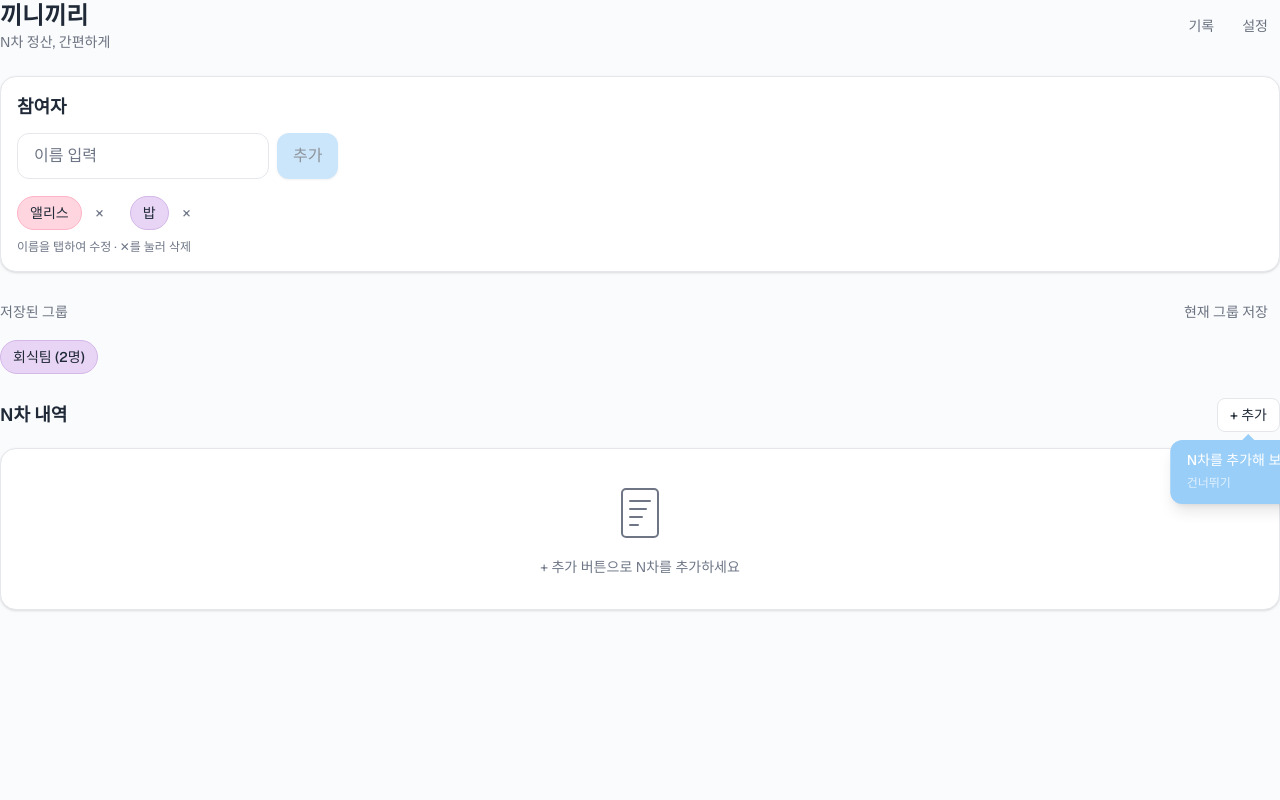
MainPage - 프리셋 관리 › 프리셋 칩 클릭 시 액션 모달 표시
The image size is (1280, 800).
Click the switch named "회식팀 선택" at (49, 357), box [0,340,98,374]
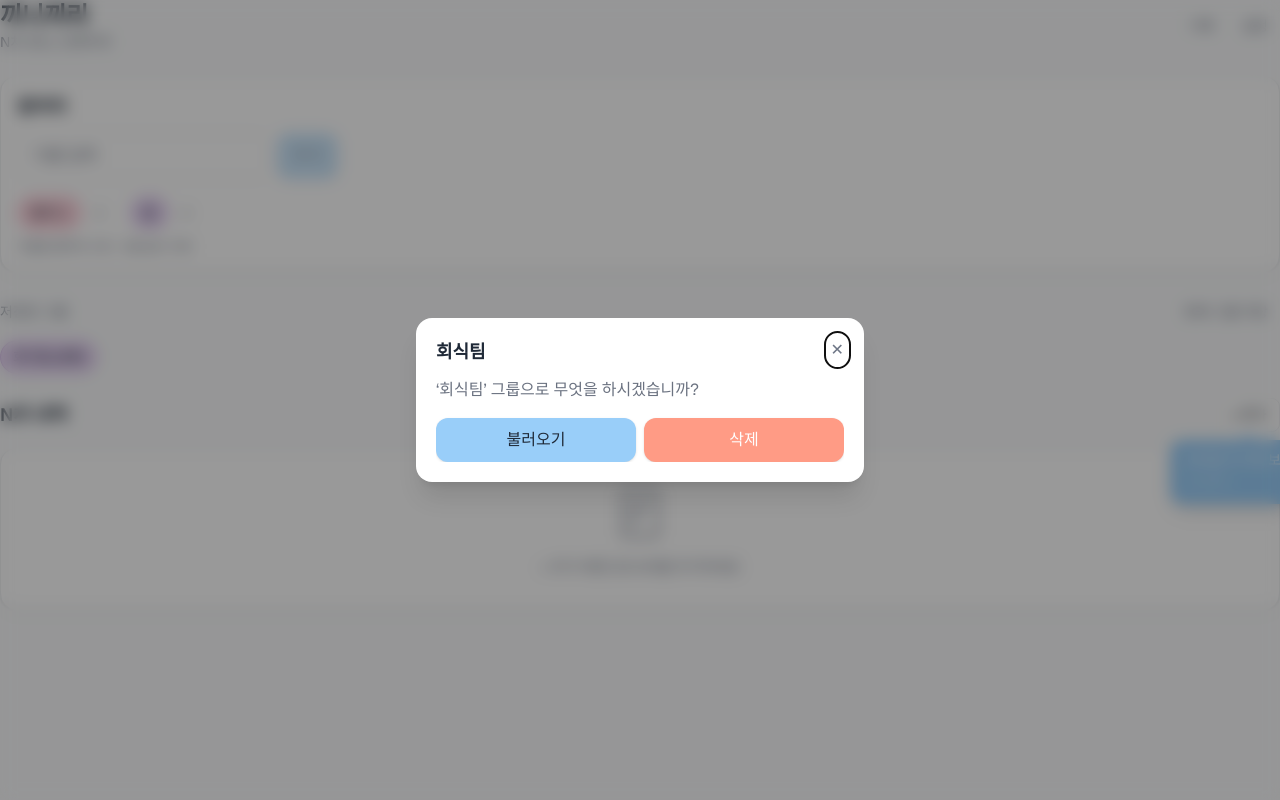
Expected: the text "‘회식팀’ 그룹으로 무엇을 하시겠습니까?" is shown, [436,379,699,400]
